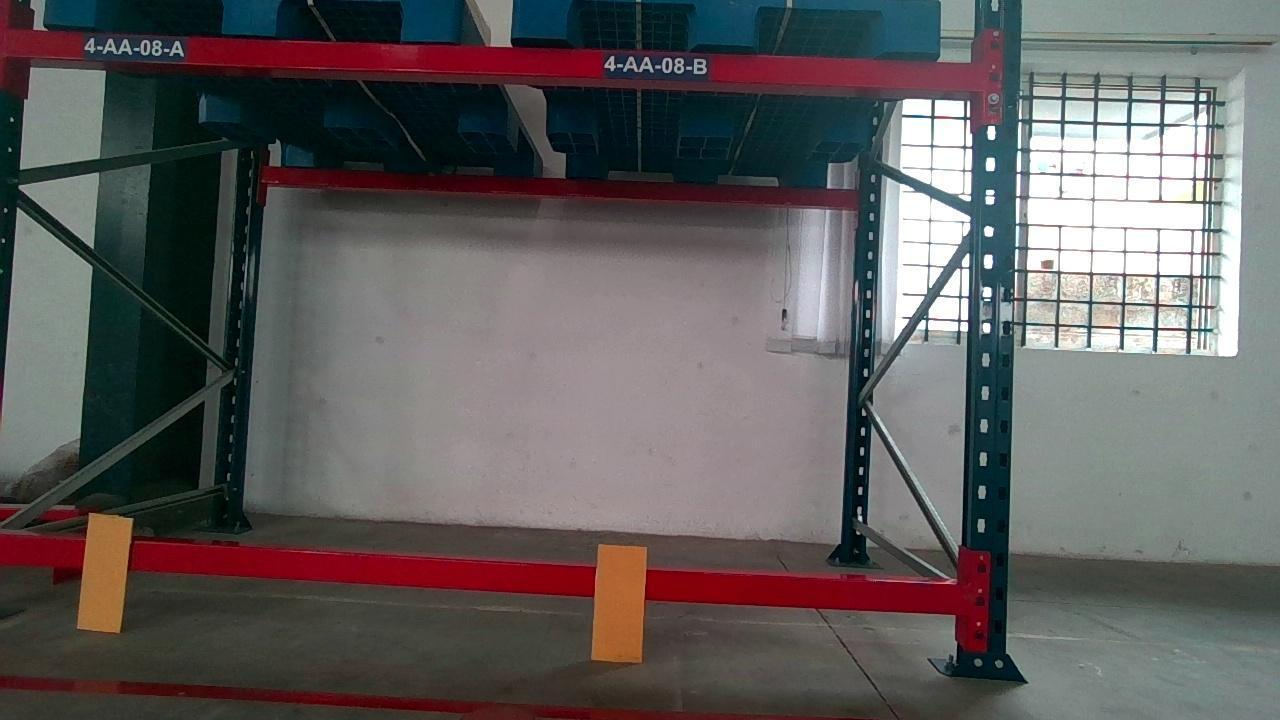h_rack: (0, 537, 961, 612), (7, 31, 985, 99)
orange_strip: (591, 542, 645, 662), (76, 513, 130, 629)
red_line: (0, 672, 817, 719)
small_pallet: (512, 0, 959, 51), (11, 0, 474, 36)
